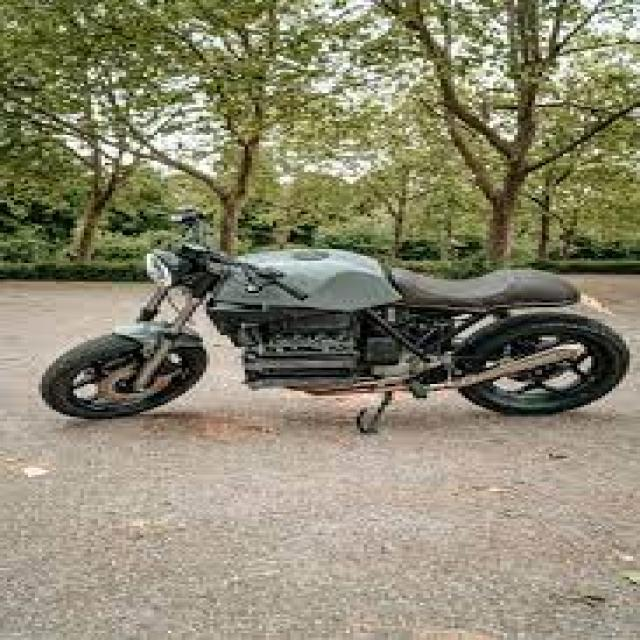Bike: (36, 206, 630, 422)
